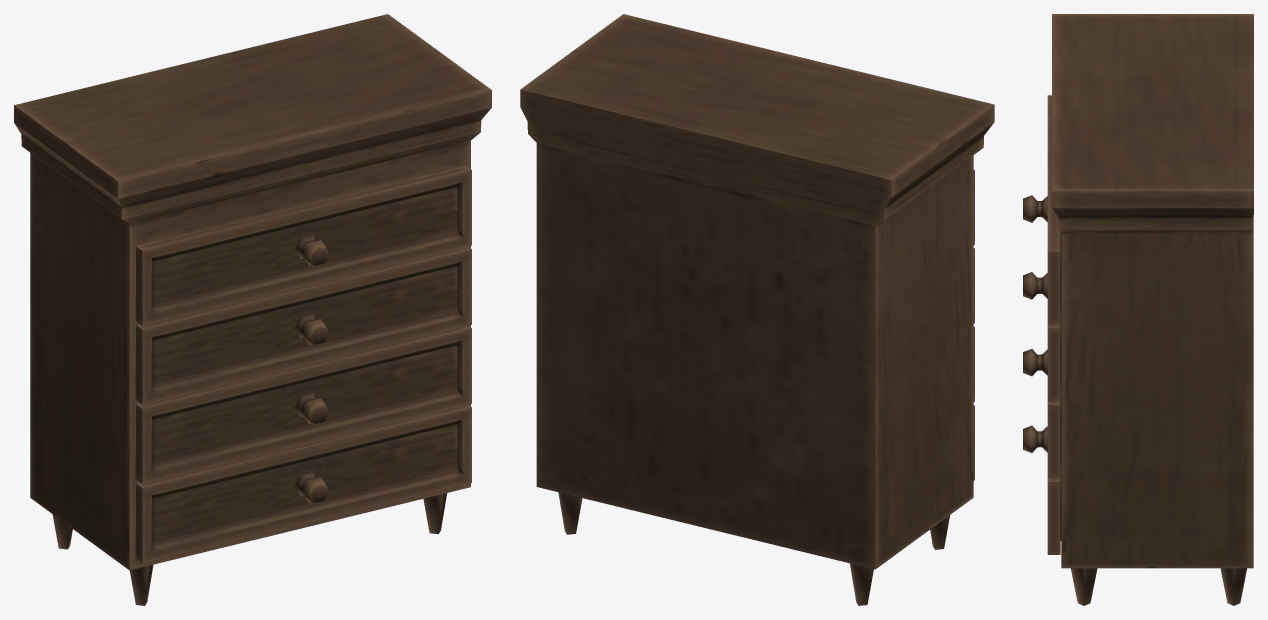
File: Wardrobe_5.fbx
3 views of the same model, side by side, from view 1: azimuth 30°, elevation 25°; view 2: azimuth 150°, elevation 25°; view 3: azimuth 270°, elevation 25° (orthographic). The views are drawn at different scales.
Visible parts, largest first — view 1: Wardrobe_5, P_1.001, P_2.001, P_4, P_3; view 2: Wardrobe_5; view 3: Wardrobe_5, P_1.001, P_2.001, P_3, P_4.
Part boxes in pixels (x1=…): Wardrobe_5: x1=14, y1=14, x2=491, y2=605; P_1.001: x1=135, y1=165, x2=471, y2=325; P_2.001: x1=135, y1=246, x2=471, y2=404; P_4: x1=135, y1=405, x2=471, y2=563; P_3: x1=135, y1=325, x2=471, y2=483; Wardrobe_5: x1=520, y1=14, x2=994, y2=605; Wardrobe_5: x1=1052, y1=14, x2=1253, y2=605; P_1.001: x1=1023, y1=95, x2=1061, y2=324; P_2.001: x1=1023, y1=272, x2=1061, y2=401; P_3: x1=1023, y1=349, x2=1061, y2=478; P_4: x1=1023, y1=425, x2=1061, y2=554.
Bounding box in the file's own units: 152 × 173 × 83.95.
